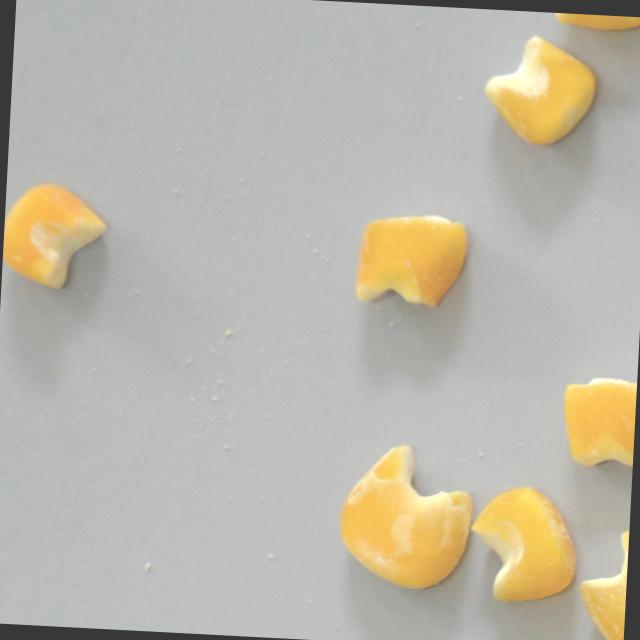no_canjicado: (480, 33, 602, 152), (1, 180, 110, 294), (353, 209, 470, 313), (557, 374, 637, 472), (552, 12, 640, 32)
pelicula: (334, 442, 473, 594), (465, 483, 579, 609), (577, 527, 629, 640)
